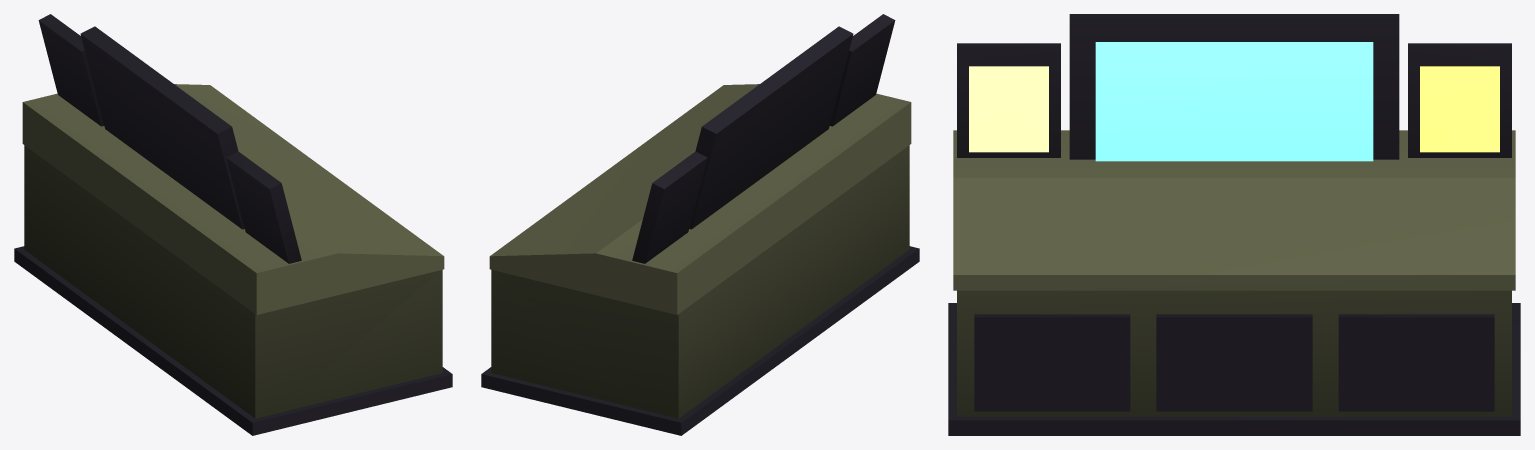
The picture shows the model from 3 angles, left to right: view 1: azimuth 30°, elevation 25°; view 2: azimuth 150°, elevation 25°; view 3: azimuth 270°, elevation 25°; orthographic projection. The views are drawn at different scales.
Parts seen in each view (by area): view 1: body_pal_picketWhite; view 2: body_pal_picketWhite; view 3: body_pal_picketWhite, screen_emi_tealLight, body_emi_orange, body_emi_windowGlow.
Boxes of the visible parts, x1,y1,x2,y2 form: body_pal_picketWhite: (14, 14, 452, 435); body_pal_picketWhite: (481, 14, 919, 435); body_pal_picketWhite: (948, 14, 1520, 435); screen_emi_tealLight: (1095, 42, 1373, 161); body_emi_orange: (1420, 66, 1499, 152); body_emi_windowGlow: (969, 66, 1048, 152).
Bounding box in the file's own units: 1.6 × 2.03 × 3.3.
